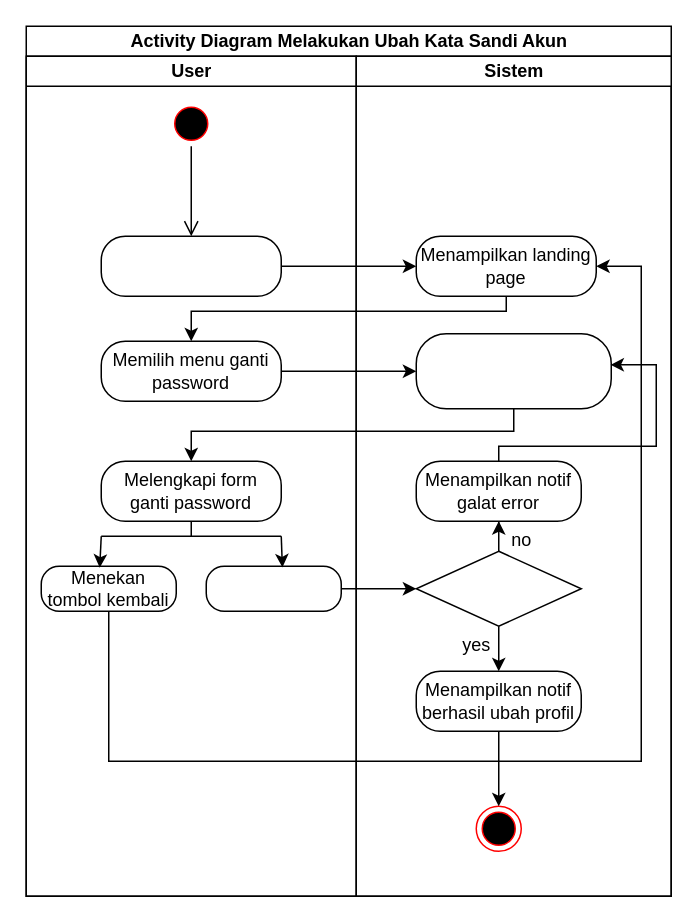
Image size: 698x923. Some labels were removed from this diagram. The shapes that lost their labels are listed below. From the top down, each one's box as (x1, y1, x2, y2) in pixels, then its label:
(100, 235, 281, 296): Login
(415, 332, 611, 409): Menampilkan halaman ganti password
(205, 565, 341, 611): Menekan tombol save
(415, 550, 581, 626): Condition
